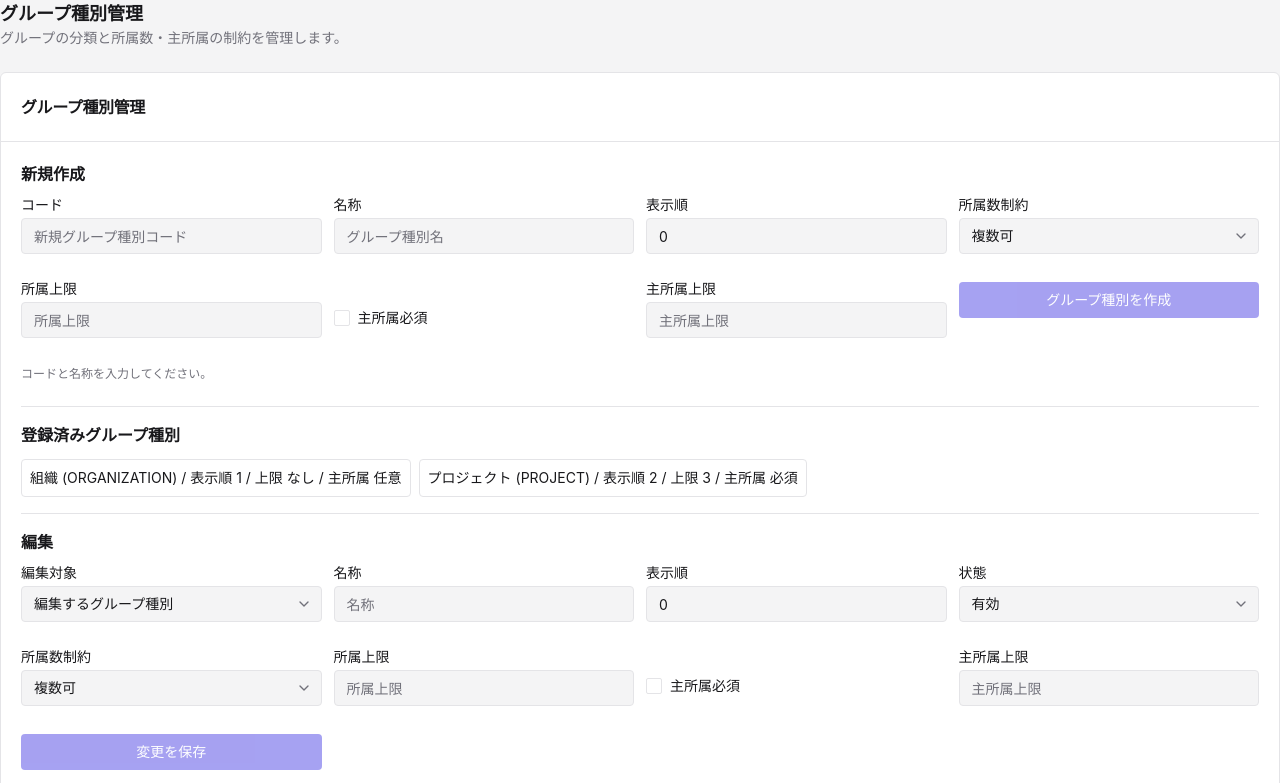
Test: GroupTypeManagementPage › does not show the success toast when creating fails, and shows the error next to the button
Expected: the text "組織 (ORGANIZATION) / 表示順 1 / 上限 なし / 主所属 任意" is shown, [21,459,411,497]
In the field with placeholder "新規グループ種別コード": (171,236) [21,218,322,254], type "ORGANIZATION"
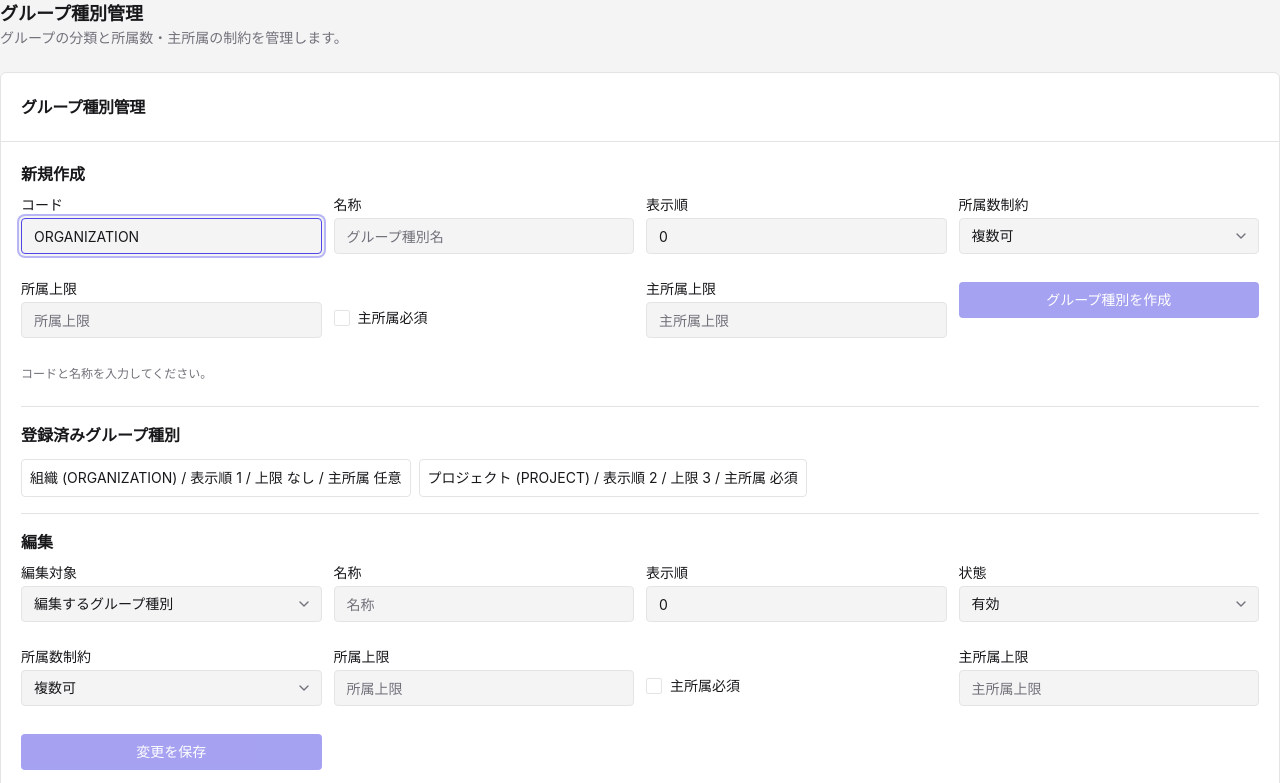
In the 1st field with placeholder "グループ種別名": (484,236) [334,218,634,254], type "重複"
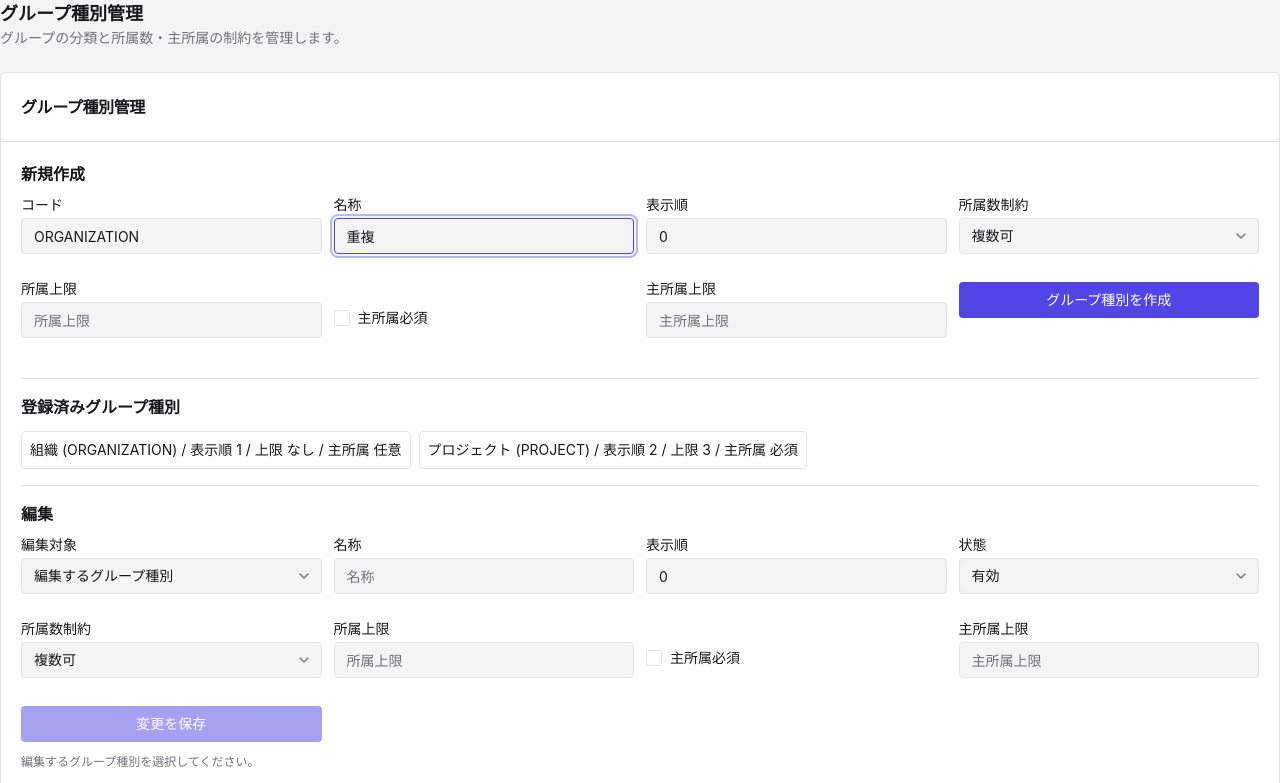
Click the button "グループ種別を作成": (1109,300) [958,282,1259,318]
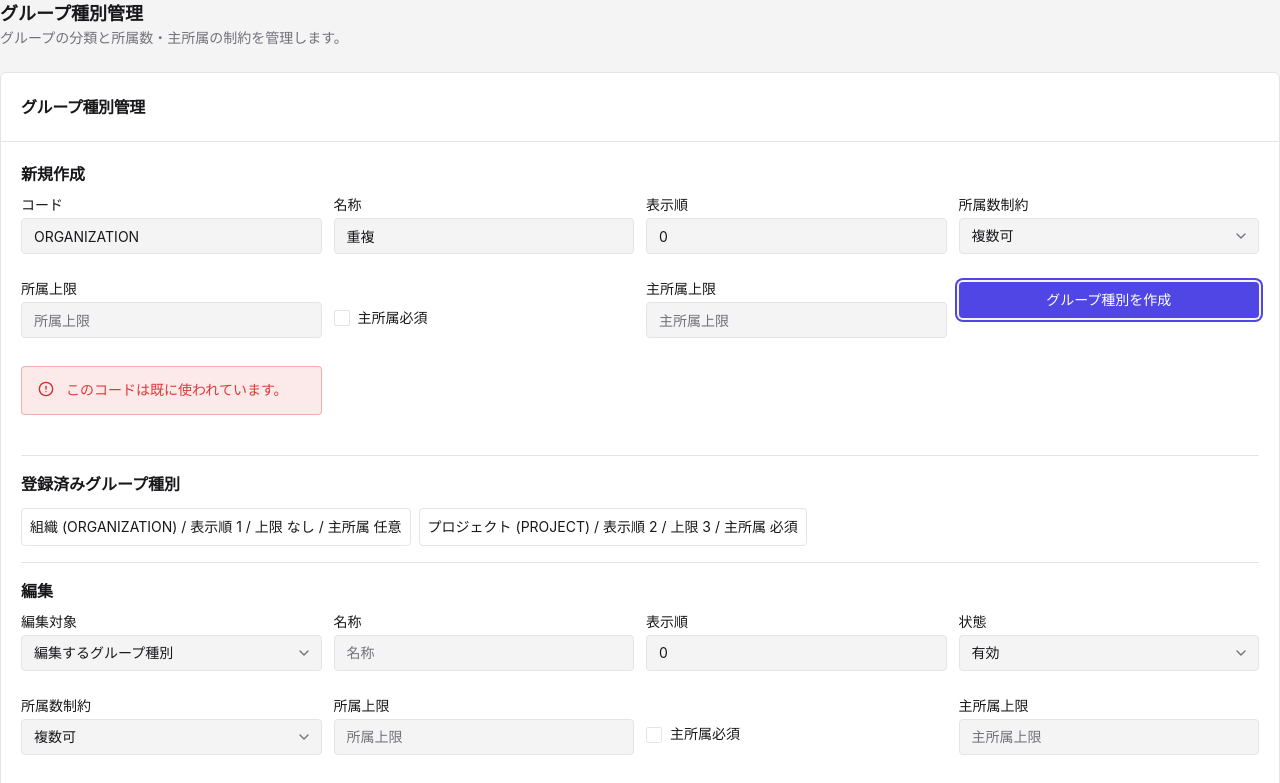
Now the message reads "このコードは既に使われています。", box [66,381,288,398]
